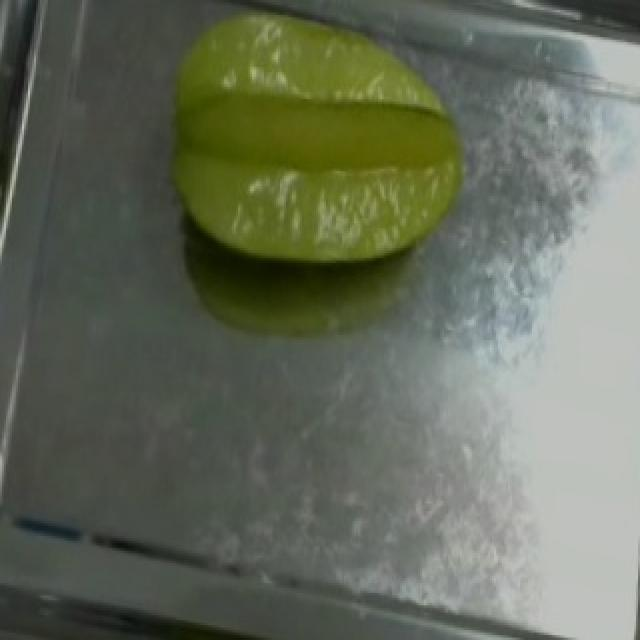fruit: (148, 3, 496, 295)
